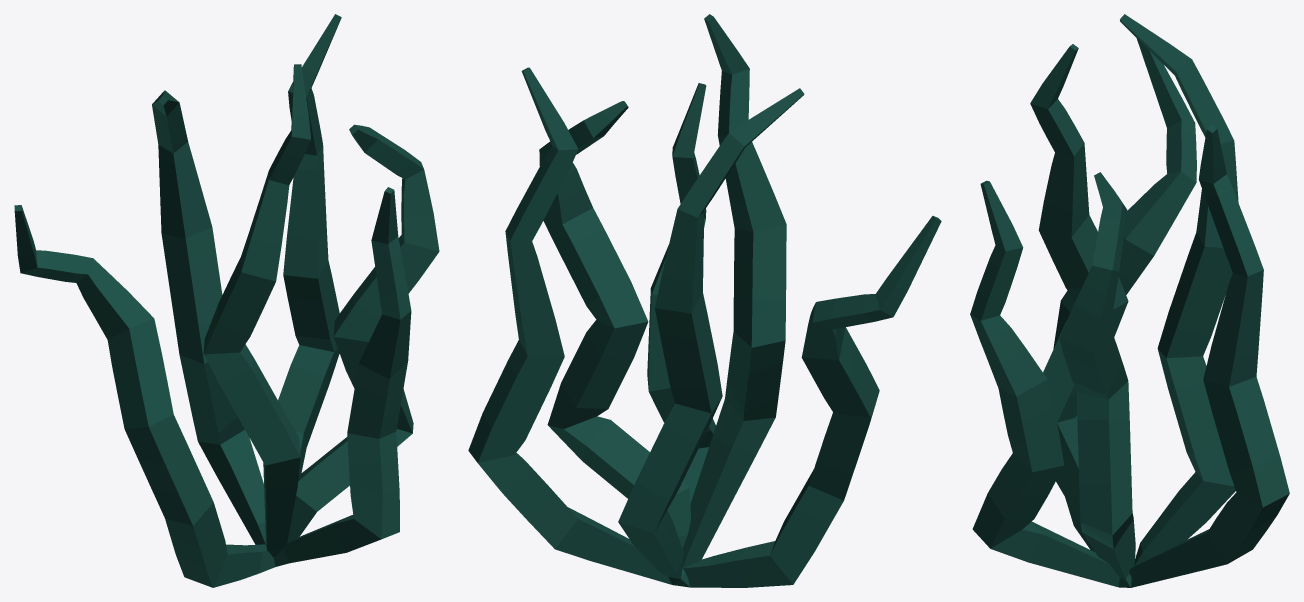
The model's file is AlgaMED.glb.
The picture shows the model from 3 angles, left to right: view 1: azimuth 30°, elevation 25°; view 2: azimuth 150°, elevation 25°; view 3: azimuth 270°, elevation 25°; orthographic projection. The views are drawn at different scales.
Visible parts, largest first — view 1: Vert.002; view 2: Vert.002; view 3: Vert.002.
Boxes of the visible parts, <box> form: Vert.002: <box>14,14,439,587</box>; Vert.002: <box>468,14,941,587</box>; Vert.002: <box>970,14,1289,587</box>.
Bounding box in the file's own units: 0.82 × 1.02 × 0.5479.
